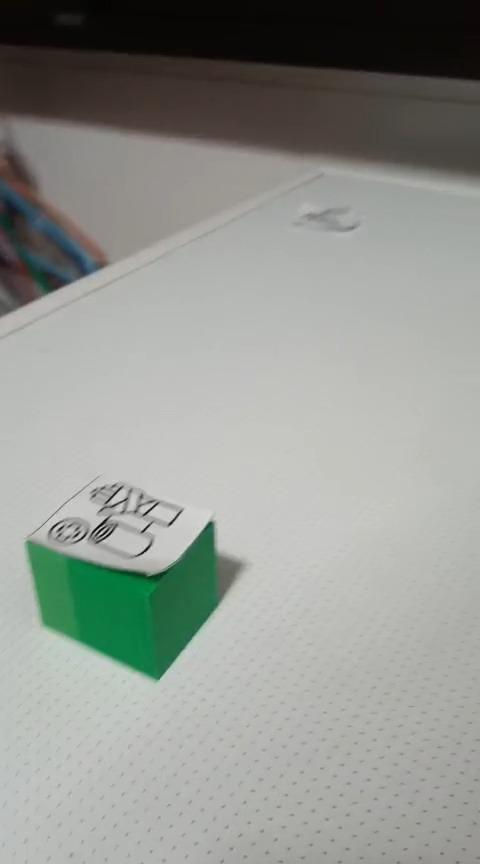Bandages: (23, 474, 220, 681)
